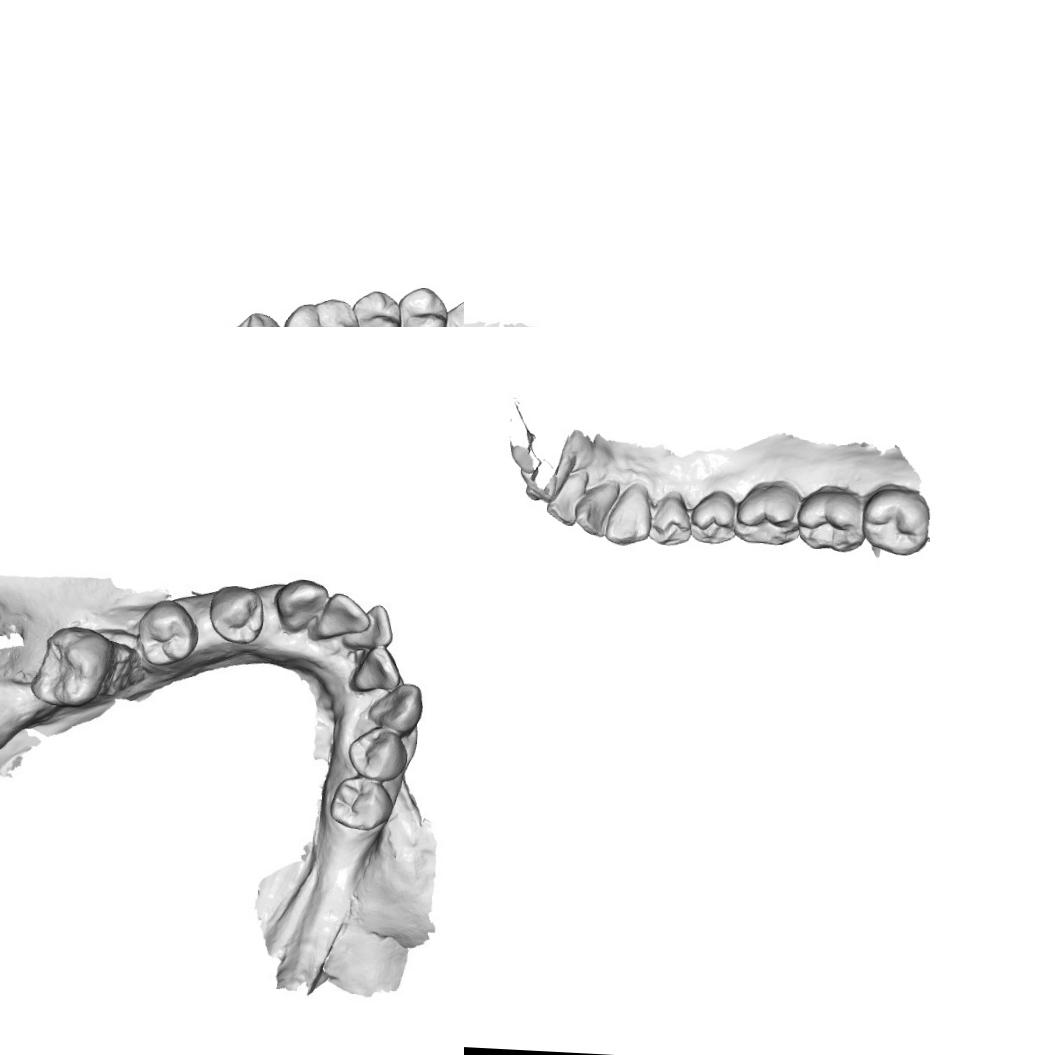canine: (604, 481, 654, 548), (272, 578, 330, 634), (366, 684, 425, 734)
incisor: (321, 588, 374, 648), (573, 479, 621, 539), (544, 468, 590, 527), (346, 598, 395, 650), (348, 646, 396, 694)
molar: (28, 622, 116, 710), (865, 484, 948, 560), (797, 482, 867, 556), (732, 478, 801, 547), (277, 293, 364, 327), (206, 308, 287, 327)
premolar: (134, 596, 200, 666), (330, 774, 392, 829), (211, 582, 266, 643), (342, 729, 405, 780), (688, 487, 737, 545), (648, 488, 694, 547), (394, 283, 449, 327), (347, 287, 404, 327)
